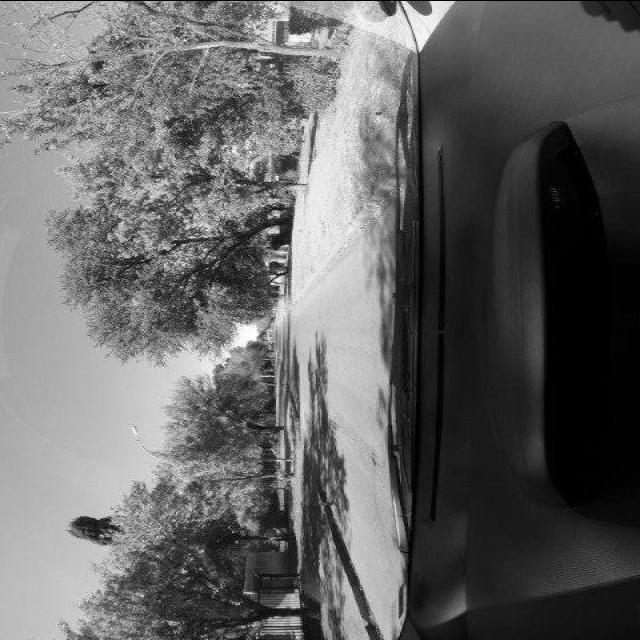lubang: (368, 448, 384, 466)
